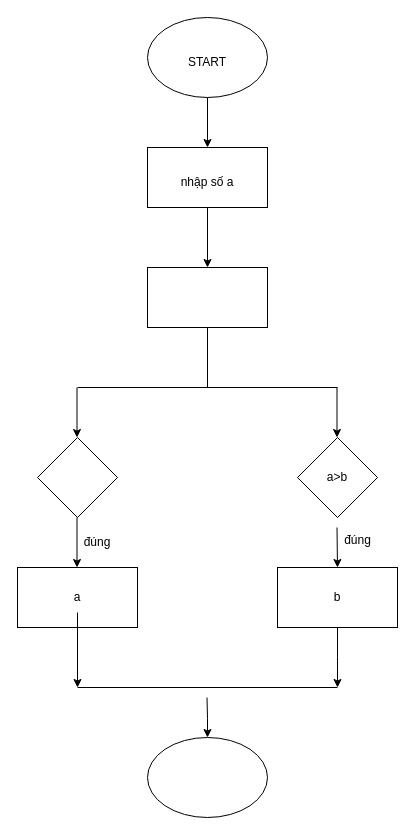
Image size: 415x835. Some labels were removed from this diagram. The shapes that lost their labels are listed below. From the top down, each one's centre as x and y in pixels, then its label:
the point at 207,297: nhập số b
the point at 77,477: a<b
the point at 207,777: END
